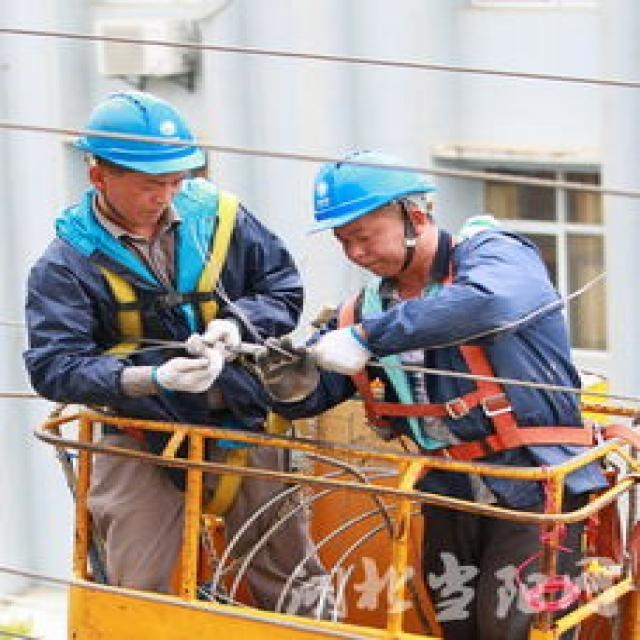Arnes_seguridad: (343, 231, 601, 458), (53, 184, 253, 373)
